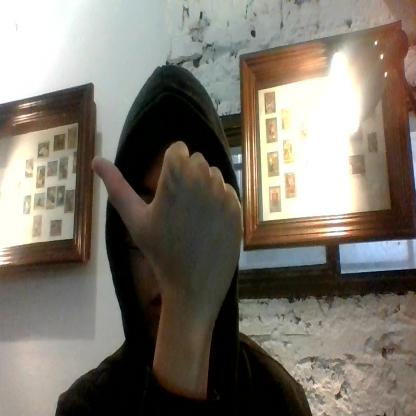right: (92, 138, 242, 298)
